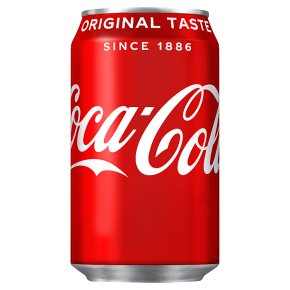coke: (68, 82, 224, 184)
